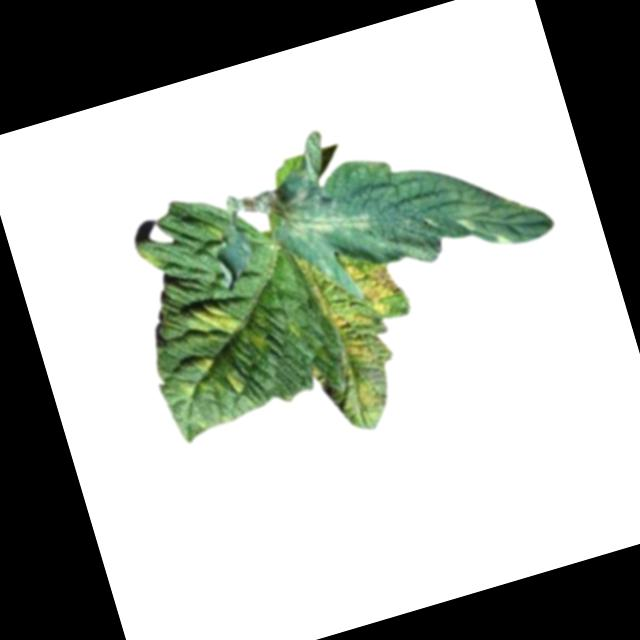Leaf_Mold: (263, 163, 371, 257), (325, 298, 393, 428), (341, 249, 405, 322), (186, 297, 245, 347), (187, 356, 215, 379)
